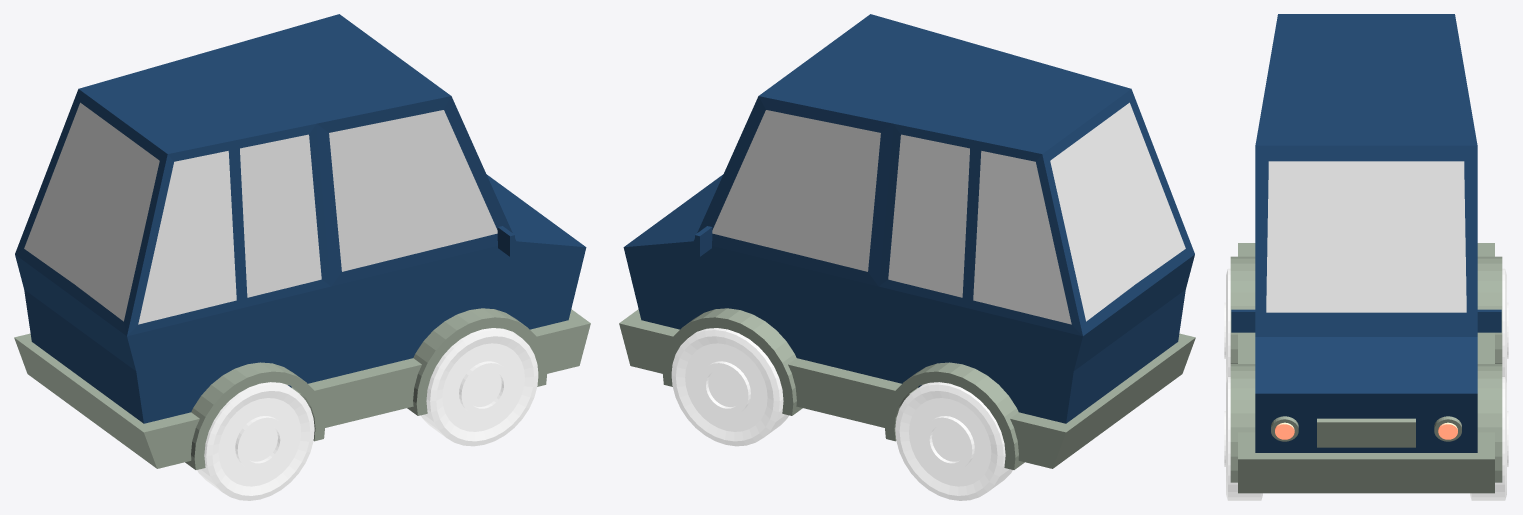
Rendered from parked_car.glb.
3 views of the same model, side by side, from view 1: azimuth 30°, elevation 25°; view 2: azimuth 150°, elevation 25°; view 3: azimuth 270°, elevation 25° (orthographic).
Parts seen in each view (by area): view 1: Body, Wheels, Chassi, wheel plate; view 2: Body, Wheels, Chassi, wheel plate; view 3: Body, Chassi, wheel plate, Wheels, Plate, rear view, Farol, Farol.001.
Boxes of the visible parts, box(x1,y1,x2,y2) form: Body: box(15, 14, 586, 423); Wheels: box(197, 328, 538, 500); Chassi: box(14, 309, 590, 468); wheel plate: box(185, 308, 547, 469); Body: box(623, 14, 1194, 423); Wheels: box(671, 328, 1012, 500); Chassi: box(619, 309, 1195, 468); wheel plate: box(662, 308, 1024, 469); Body: box(1255, 14, 1477, 452); Chassi: box(1238, 243, 1494, 493); wheel plate: box(1230, 256, 1502, 482); Wheels: box(1224, 268, 1508, 500); Plate: box(1317, 418, 1415, 447); rear view: box(1231, 309, 1501, 332); Farol: box(1271, 416, 1461, 441); Farol.001: box(1275, 422, 1457, 439).
Size of the model in its own units: 10.6 by 7.57 by 5.73.
